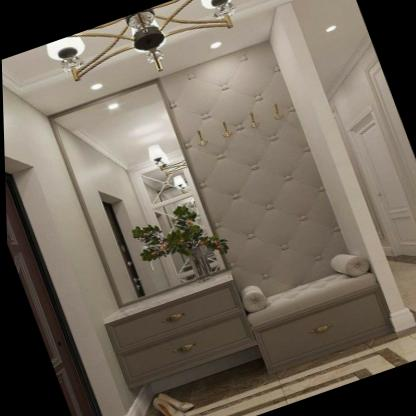Ceramic floor: (176, 329, 416, 416)
